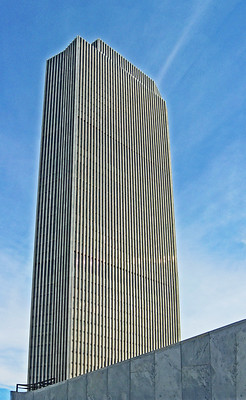medium: (26, 34, 182, 378)
